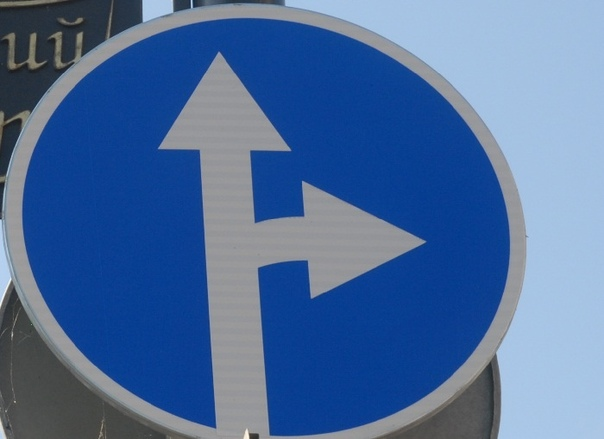ileri_veya_saga: (7, 1, 530, 438)
